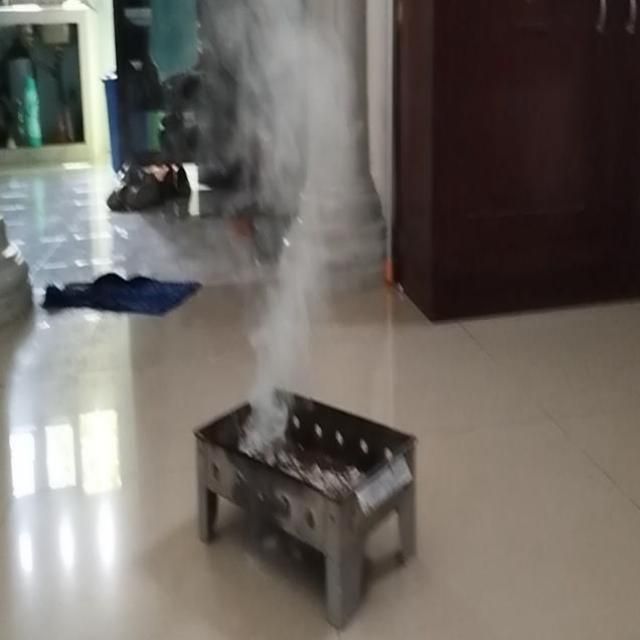fire: (222, 0, 360, 173), (271, 176, 364, 330), (245, 330, 298, 442)
